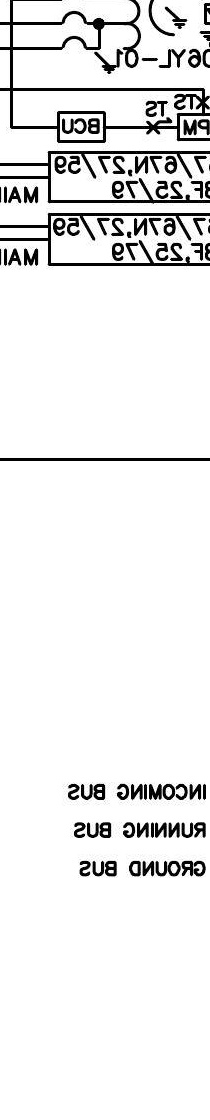BCU: (56, 110, 107, 144)
